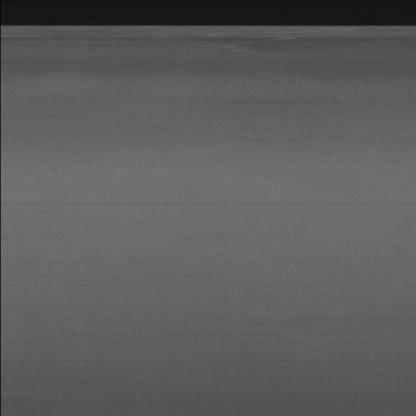silk_spot: (175, 27, 386, 57)
